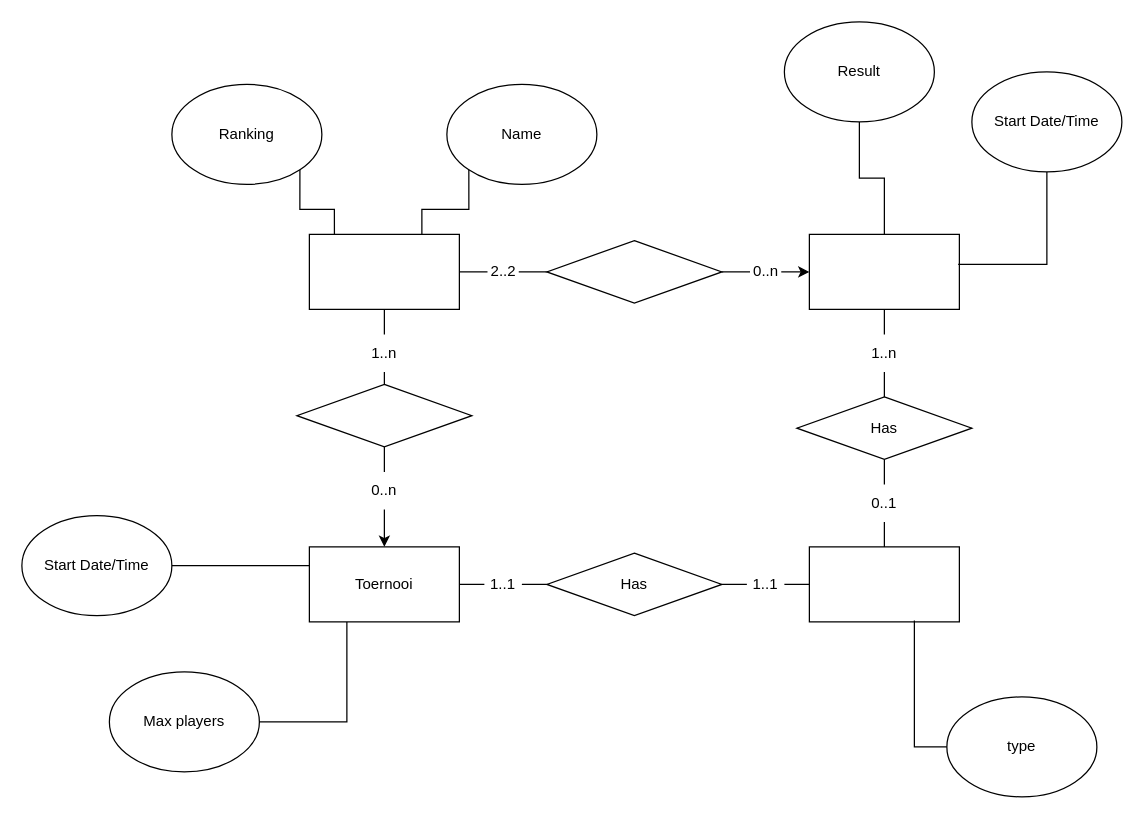
This 1144x819 diagram has some shape labels left out. Here are the shapes that lost their labels. From the top down, the centre of each, then its label:
At pixel 383 271: "Player".
At pixel 634 271: "Plays".
At pixel 883 271: "match".
At pixel 384 415: "Participates in".
At pixel 883 584: "bracket".
